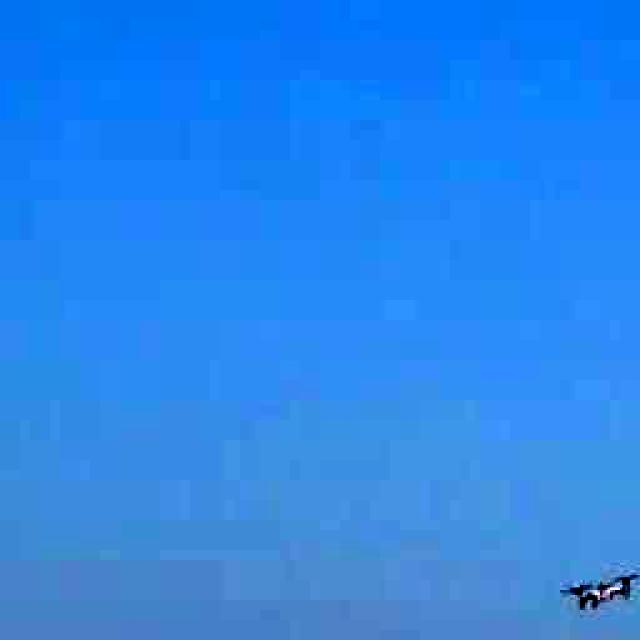bird: (551, 565, 640, 620)
